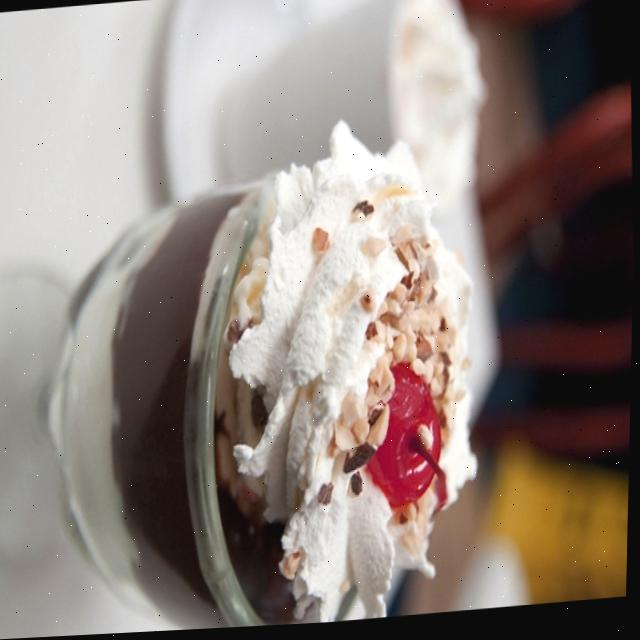蛋糕甜品: (19, 122, 493, 639)
